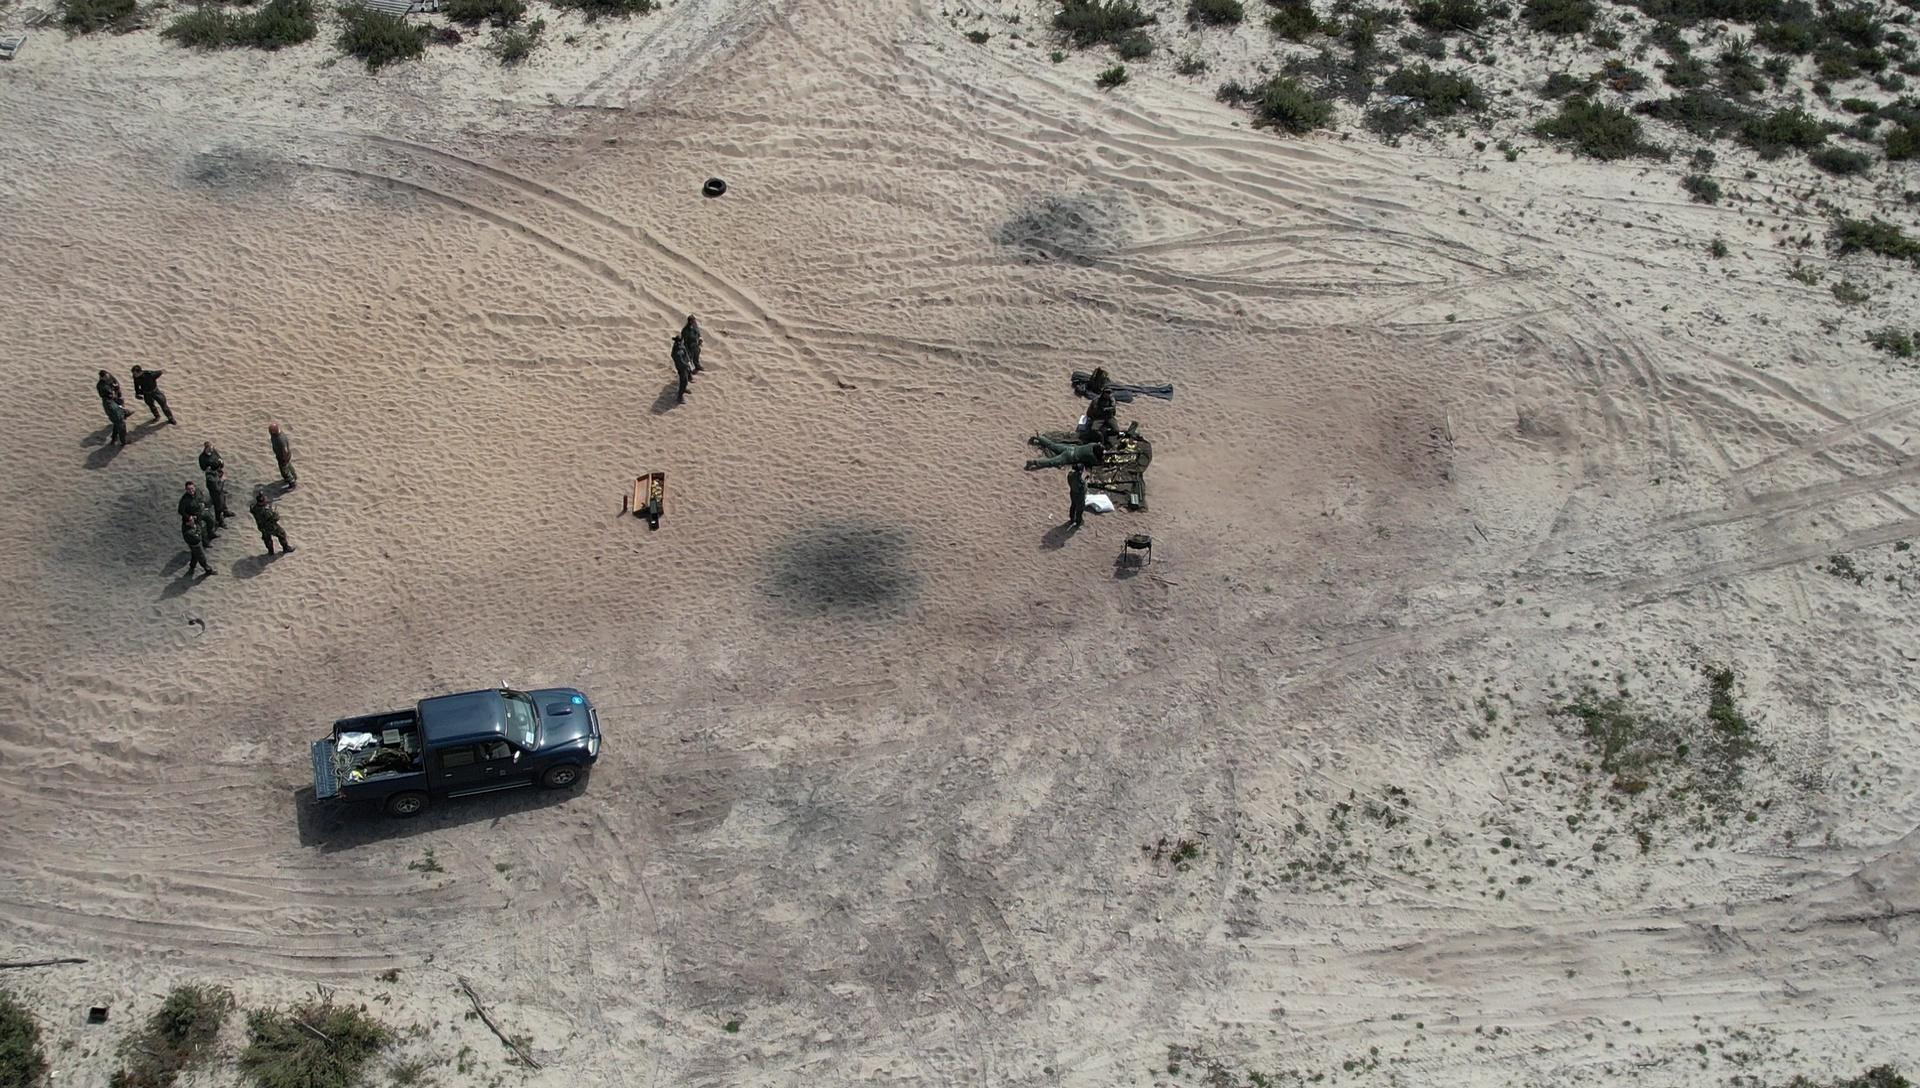Soldier: (243, 491, 297, 567), (127, 364, 181, 440), (196, 444, 243, 520), (262, 429, 306, 504), (1036, 433, 1116, 473), (669, 318, 705, 396), (1079, 396, 1122, 460), (1064, 466, 1100, 542), (94, 394, 137, 452), (178, 510, 222, 568), (671, 324, 704, 382), (174, 481, 212, 514)
